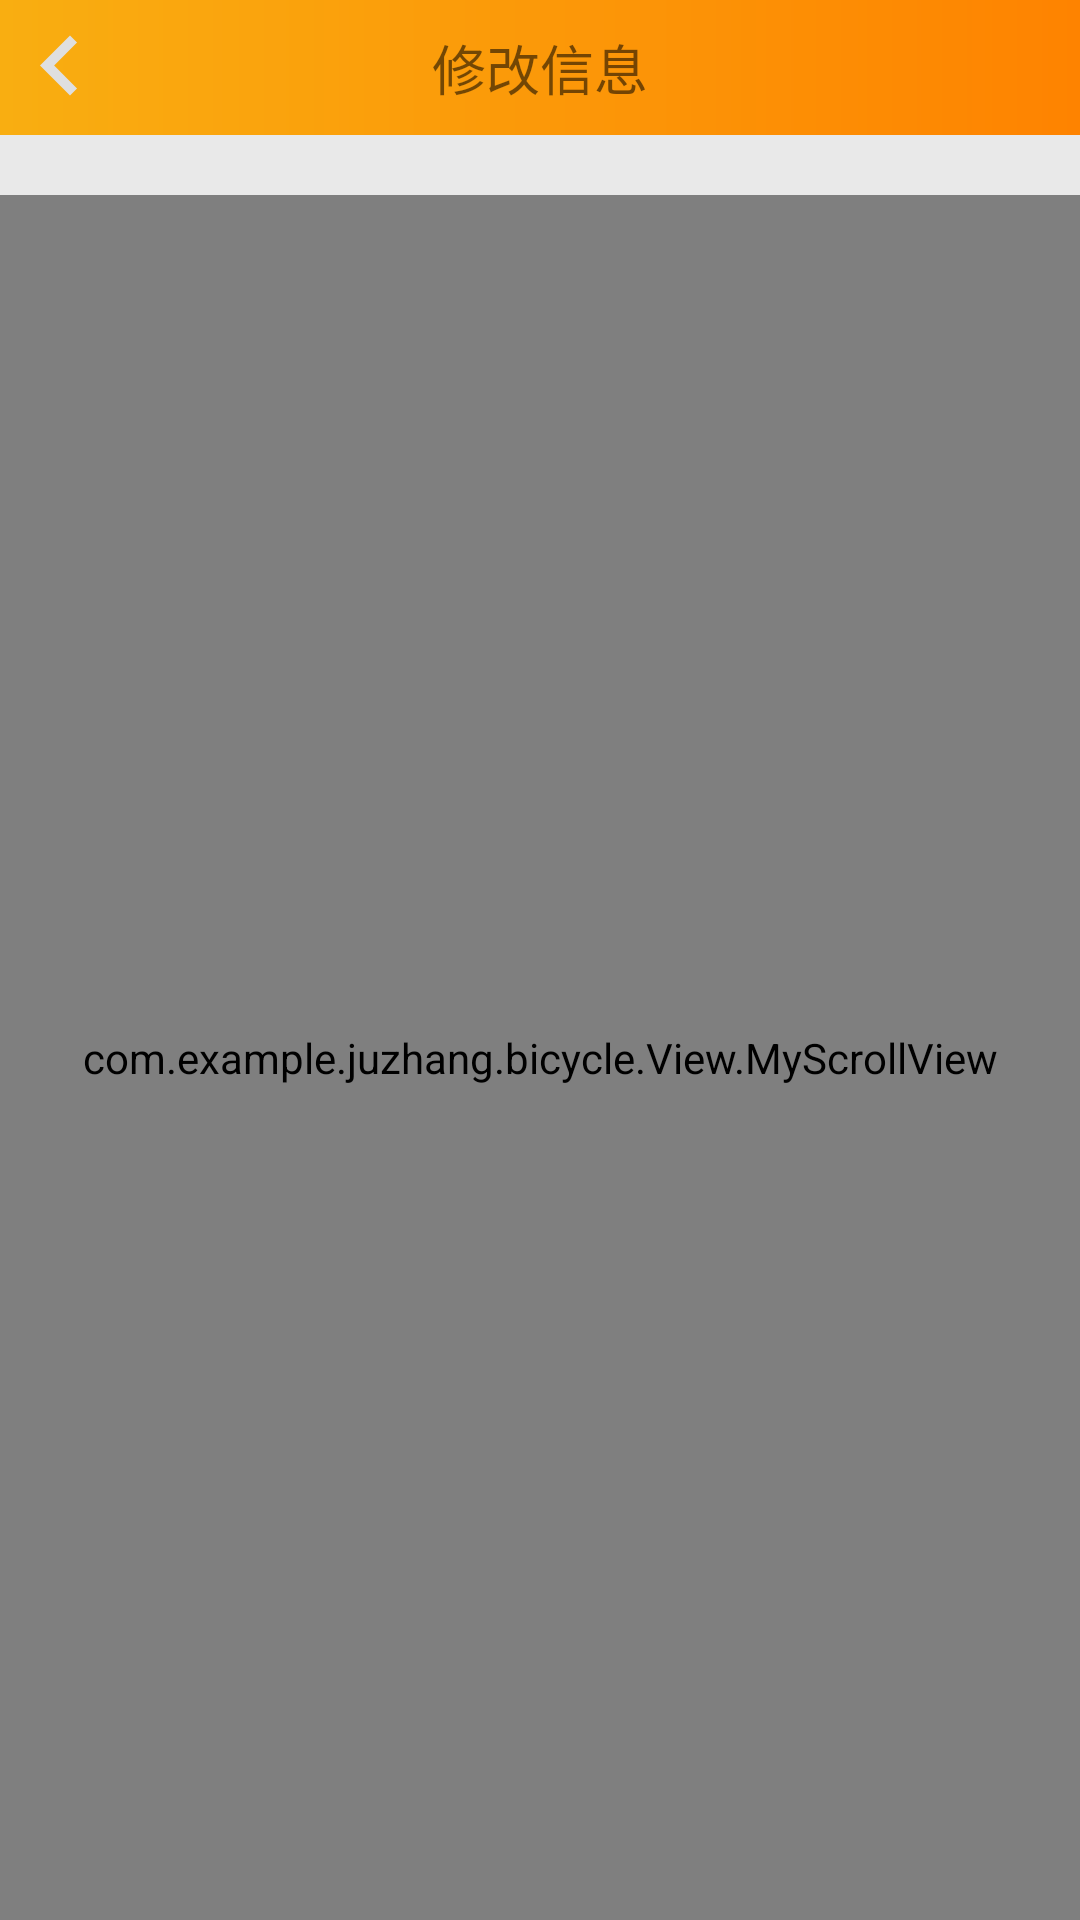

Named icons in this screenshot (1080w x 1920h) and their centers, [x,y]:
left: [58,65]
